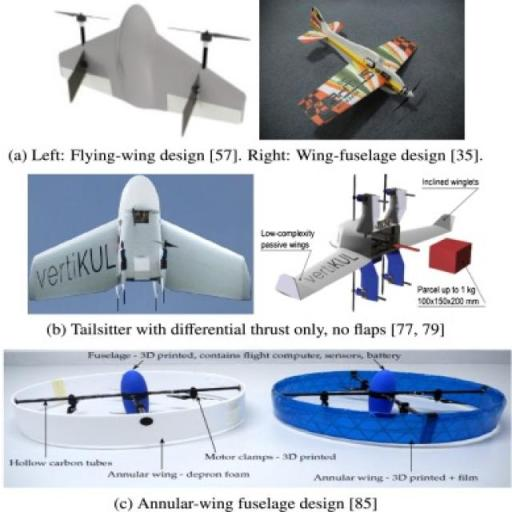uav: (30, 176, 252, 310)
